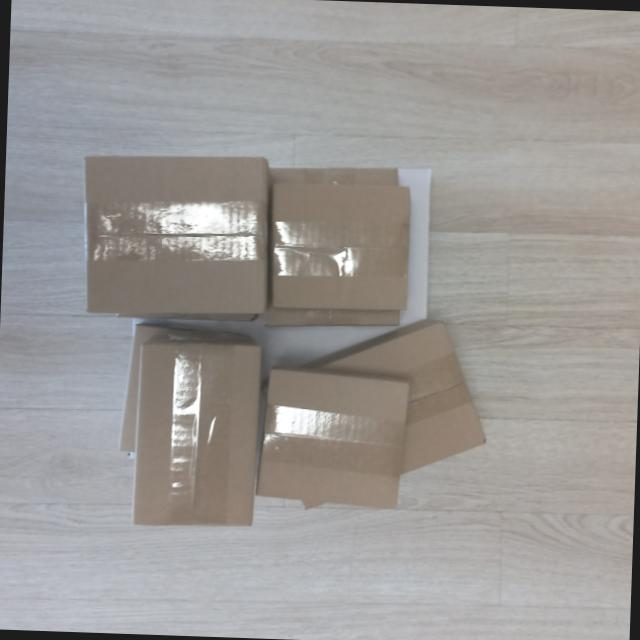box: (75, 146, 272, 322), (127, 331, 268, 534), (252, 358, 416, 514), (263, 175, 417, 318)
